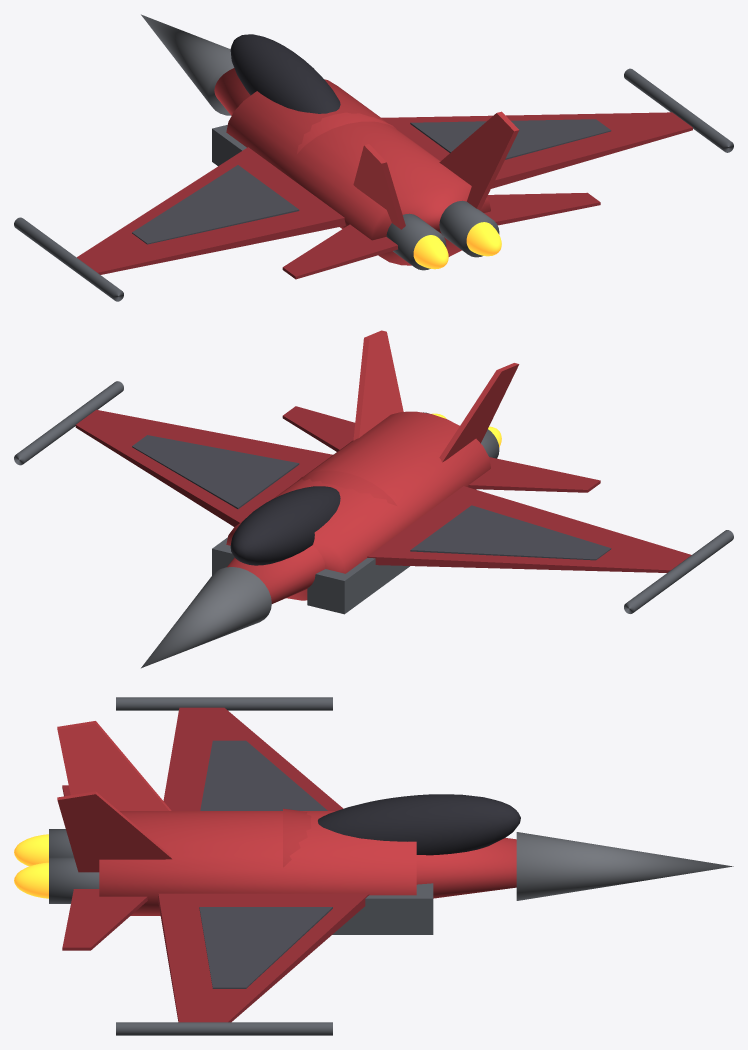
File: enemigo.glb
3 views of the same model, one above another, from view 1: azimuth 30°, elevation 25°; view 2: azimuth 150°, elevation 25°; view 3: azimuth 270°, elevation 25° (orthographic). The views are drawn at different scales.
Parts seen in each view (by area): view 1: Cuerpo, Ala_-1, Ala_1, Franja_-1, Cabina, Franja_1, Deriva_1, Radomo, Elevador_-1, Elevador_1, Deriva_-1, Morro (+7 smaller); view 2: Cuerpo, Ala_-1, Ala_1, Franja_-1, Radomo, Franja_1, Cabina, Morro, Deriva_1, TomaAire_-1, Elevador_-1, Deriva_-1 (+3 smaller); view 3: Cuerpo, Ala_1, Cabina, Radomo, Franja_1, Ala_-1, Franja_-1, Deriva_-1, Morro, Deriva_1, TomaAire_1, Elevador_1 (+6 smaller).
Boxes of the visible parts, bbox=[...] form: Cuerpo: bbox=[226, 79, 490, 265]; Ala_-1: bbox=[77, 147, 345, 274]; Ala_1: bbox=[381, 112, 692, 188]; Franja_-1: bbox=[132, 165, 299, 244]; Cabina: bbox=[230, 34, 340, 113]; Franja_1: bbox=[410, 119, 611, 159]; Deriva_1: bbox=[439, 111, 519, 210]; Radomo: bbox=[141, 14, 234, 115]; Elevador_-1: bbox=[282, 224, 397, 279]; Elevador_1: bbox=[484, 192, 600, 225]; Deriva_-1: bbox=[353, 144, 405, 229]; Morro: bbox=[214, 68, 396, 153]; Cuerpo: bbox=[226, 411, 490, 600]; Ala_-1: bbox=[367, 486, 691, 572]; Ala_1: bbox=[75, 409, 332, 526]; Franja_-1: bbox=[410, 505, 611, 560]; Radomo: bbox=[141, 567, 271, 668]; Franja_1: bbox=[132, 435, 299, 509]; Cabina: bbox=[230, 486, 340, 565]; Morro: bbox=[227, 470, 396, 603]; Deriva_1: bbox=[353, 330, 403, 440]; TomaAire_-1: bbox=[307, 558, 409, 614]; Elevador_-1: bbox=[468, 457, 600, 492]; Deriva_-1: bbox=[439, 363, 519, 462]; Cuerpo: bbox=[99, 811, 416, 915]; Ala_1: bbox=[158, 893, 369, 1022]; Cabina: bbox=[318, 794, 520, 855]; Radomo: bbox=[516, 832, 733, 900]; Franja_1: bbox=[199, 907, 332, 988]; Ala_-1: bbox=[163, 707, 343, 810]; Franja_-1: bbox=[200, 740, 327, 810]; Deriva_-1: bbox=[57, 721, 171, 810]; Morro: bbox=[283, 808, 516, 898]; Deriva_1: bbox=[57, 791, 171, 872]; TomaAire_1: bbox=[332, 883, 433, 934]; Elevador_1: bbox=[62, 889, 147, 950].
Size of the model in its own units: 4.68 by 1 by 4.31.
